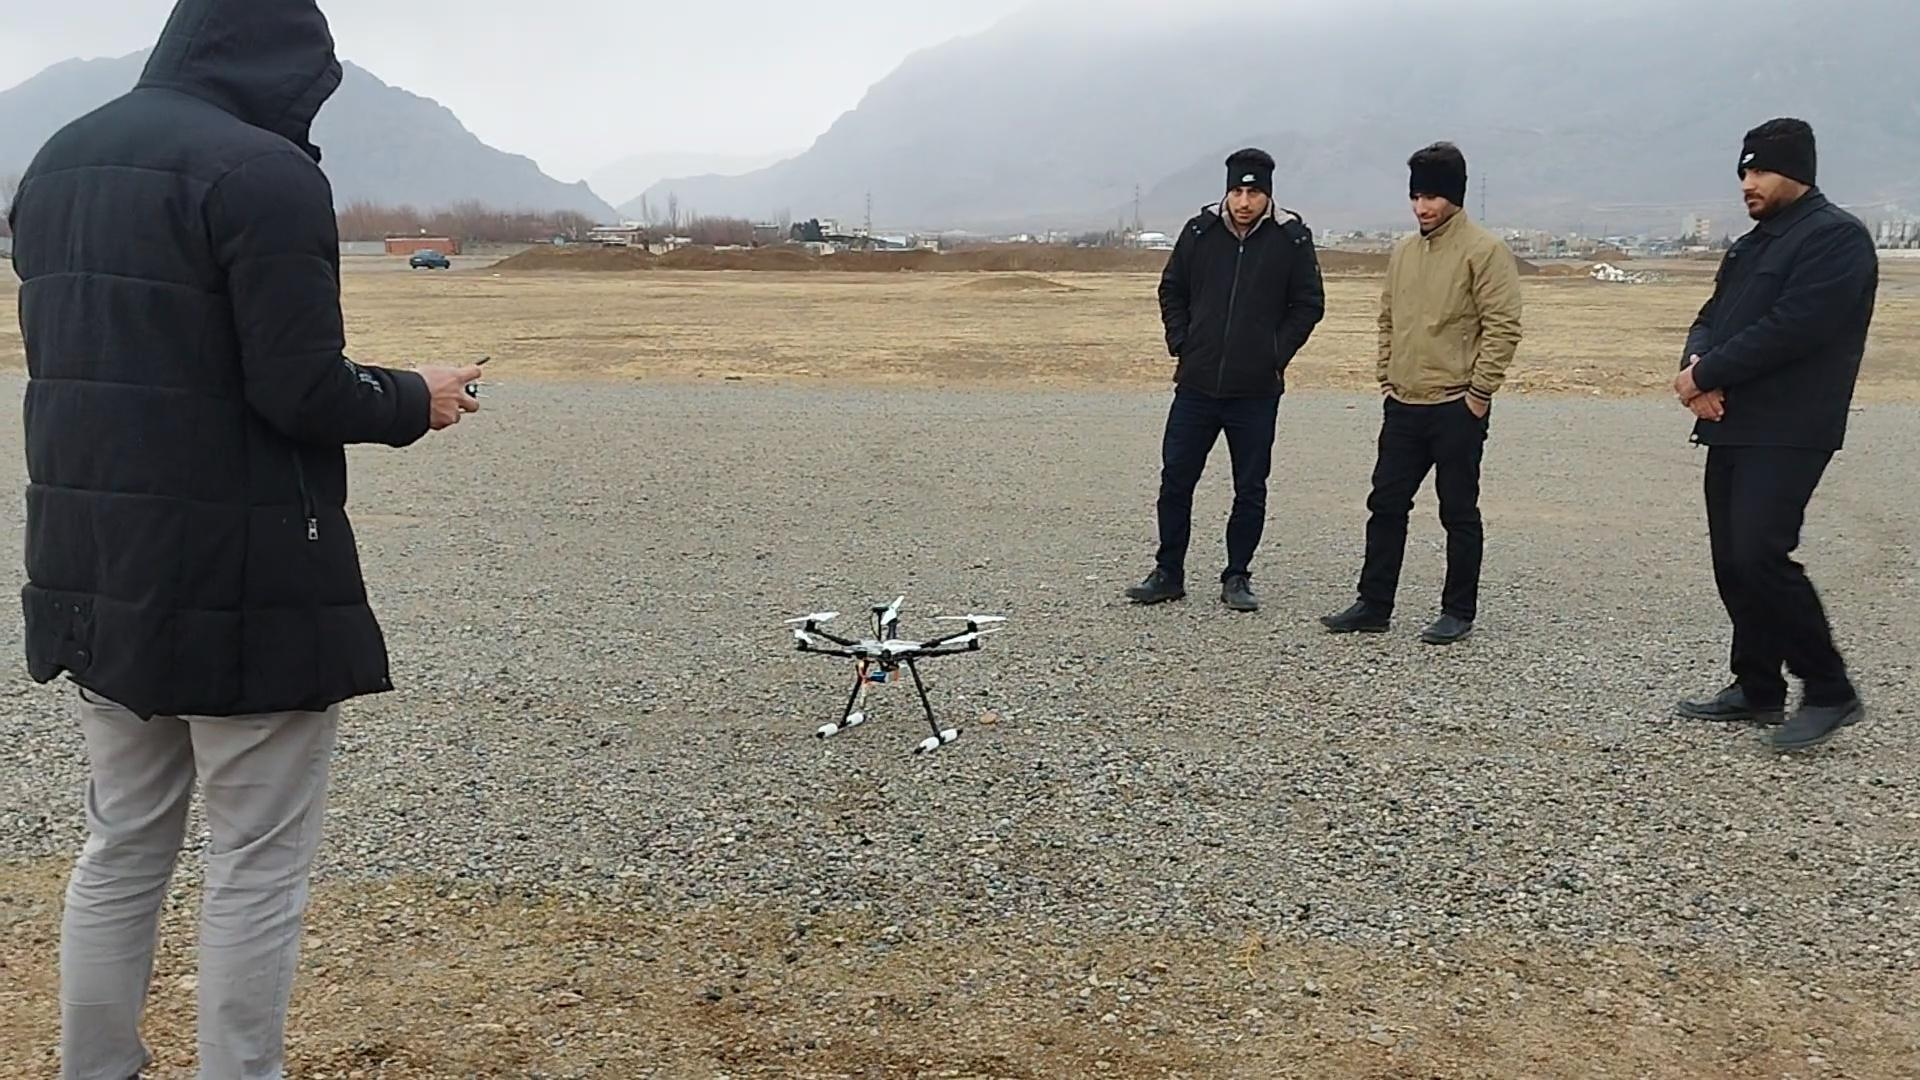drone: (785, 596, 1006, 757)
